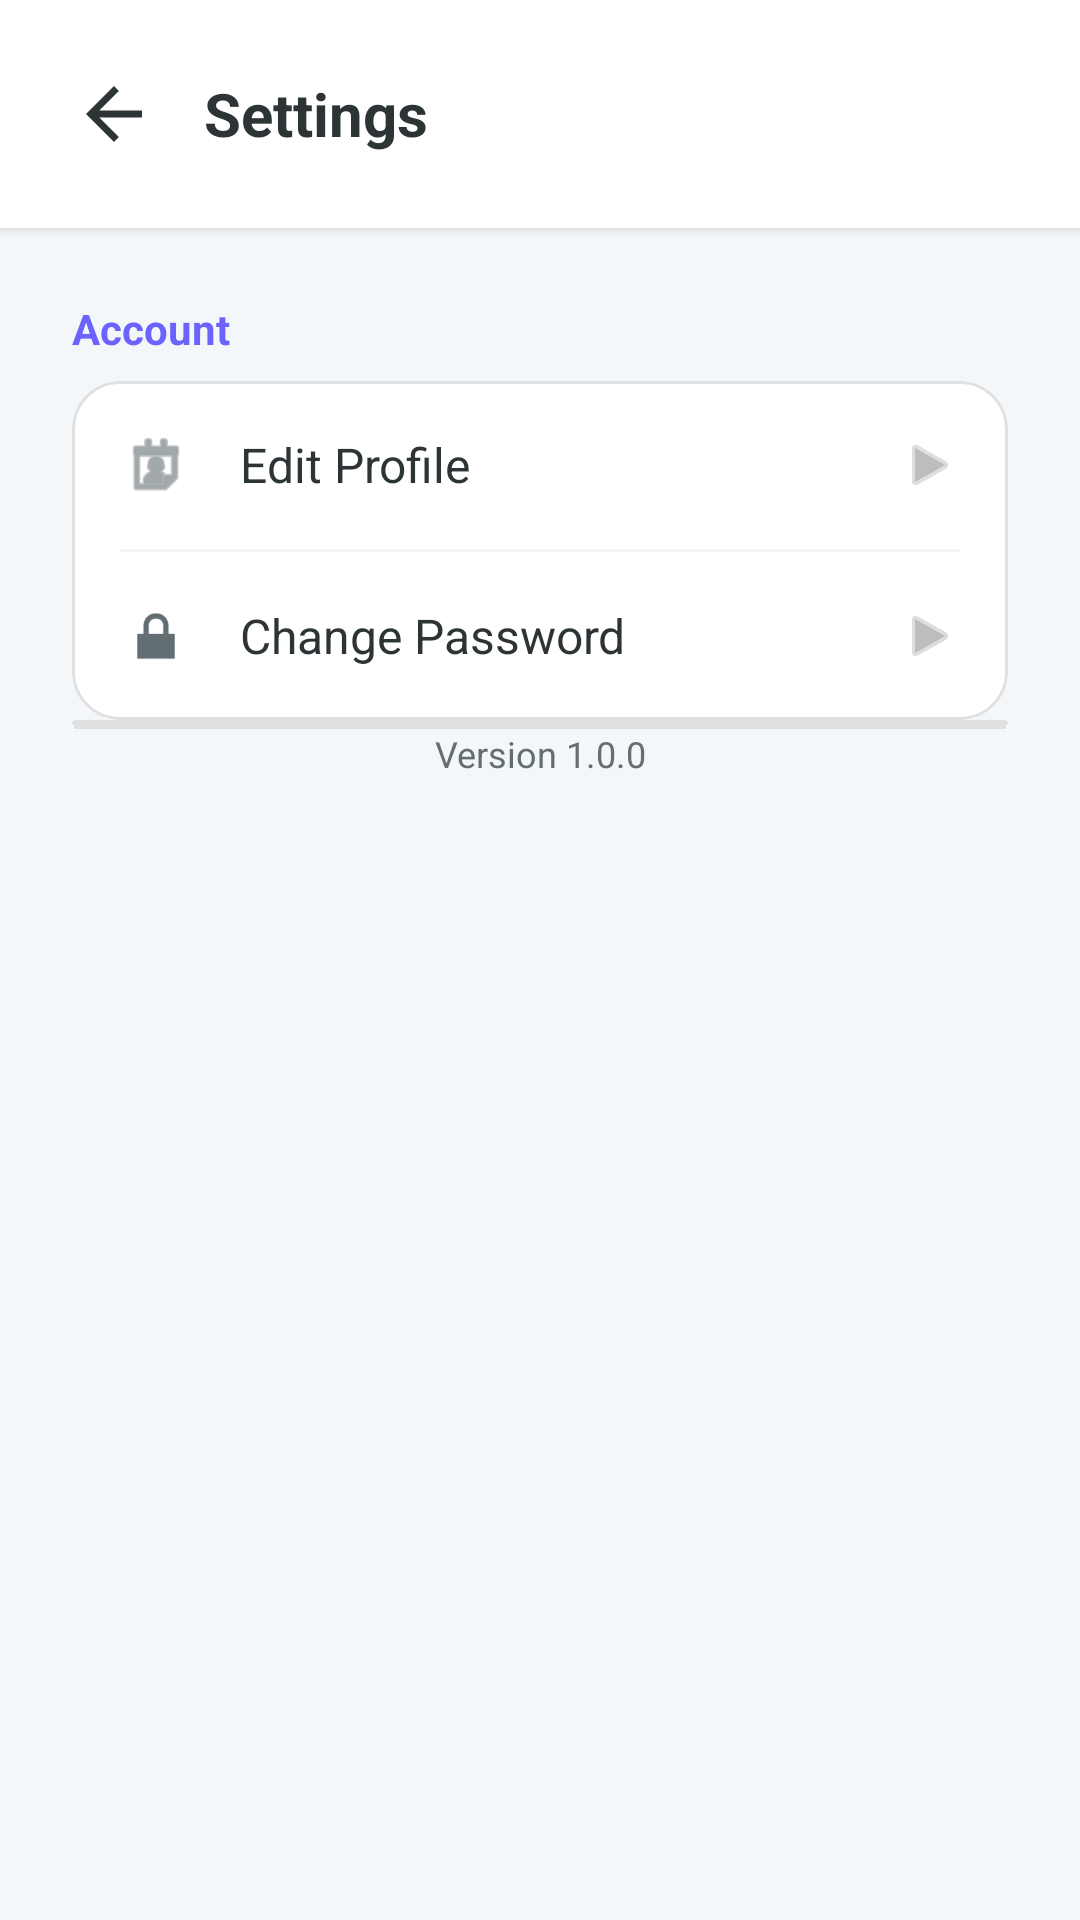

Locate icon controls on the screen. Image size 1080×1920, boxes as (x1, y1, x2, y2).
calendar: (133, 438, 179, 491)
lock: (137, 613, 175, 659)
play: (912, 445, 948, 485), (912, 616, 948, 656)
